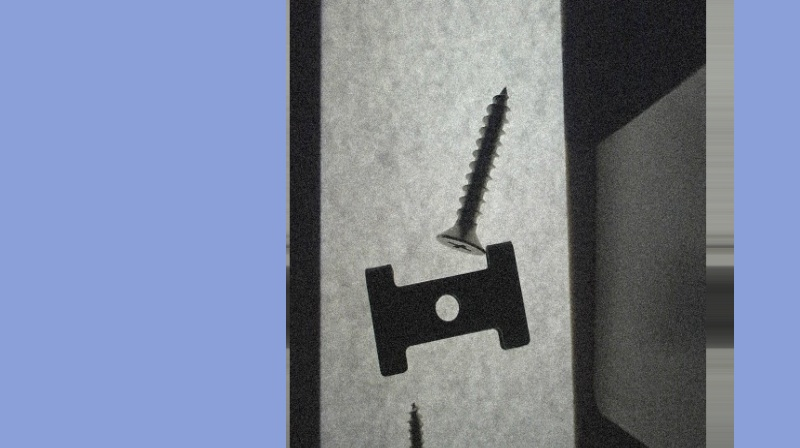O001: (387, 396, 460, 447)
O002: (364, 239, 531, 377)
S001: (435, 87, 509, 256)
